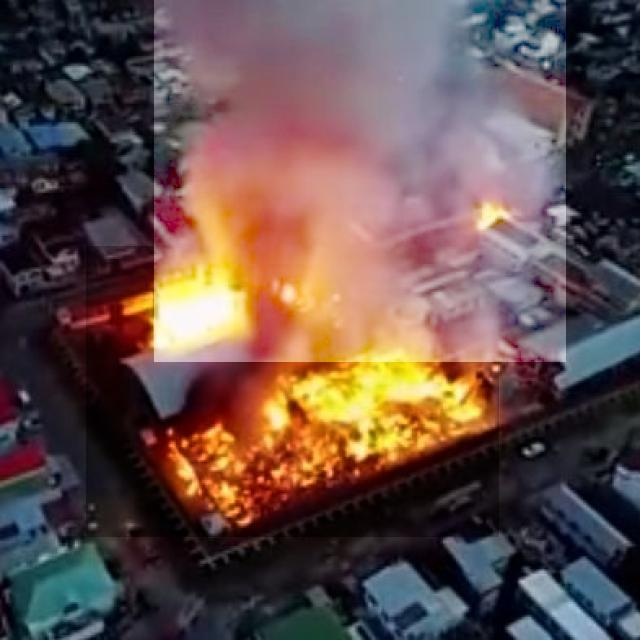Fire: (86, 246, 499, 537)
Smoke: (154, 0, 566, 362)
